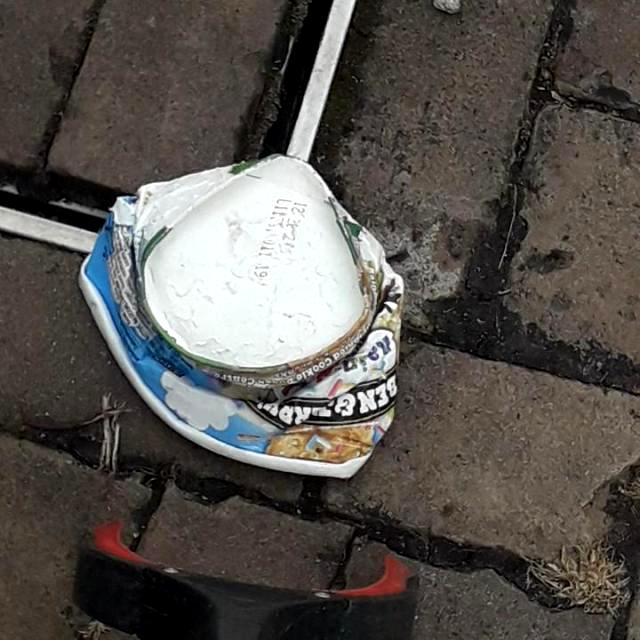Paper: (72, 150, 410, 487)
